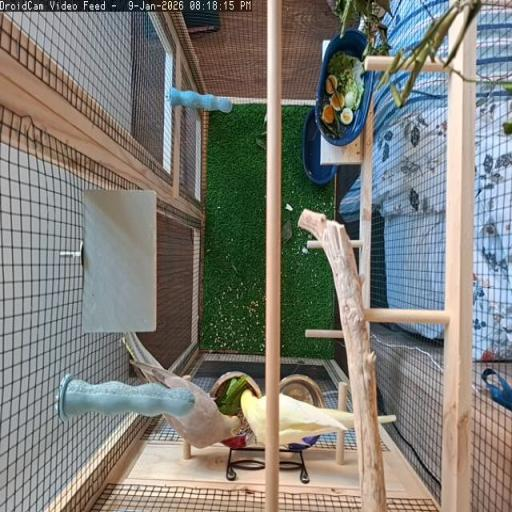bebedero: (280, 375, 325, 407), (287, 435, 319, 450)
comedero: (210, 371, 260, 448)
ninfa: (128, 338, 241, 447), (279, 394, 354, 444), (241, 388, 276, 445)
